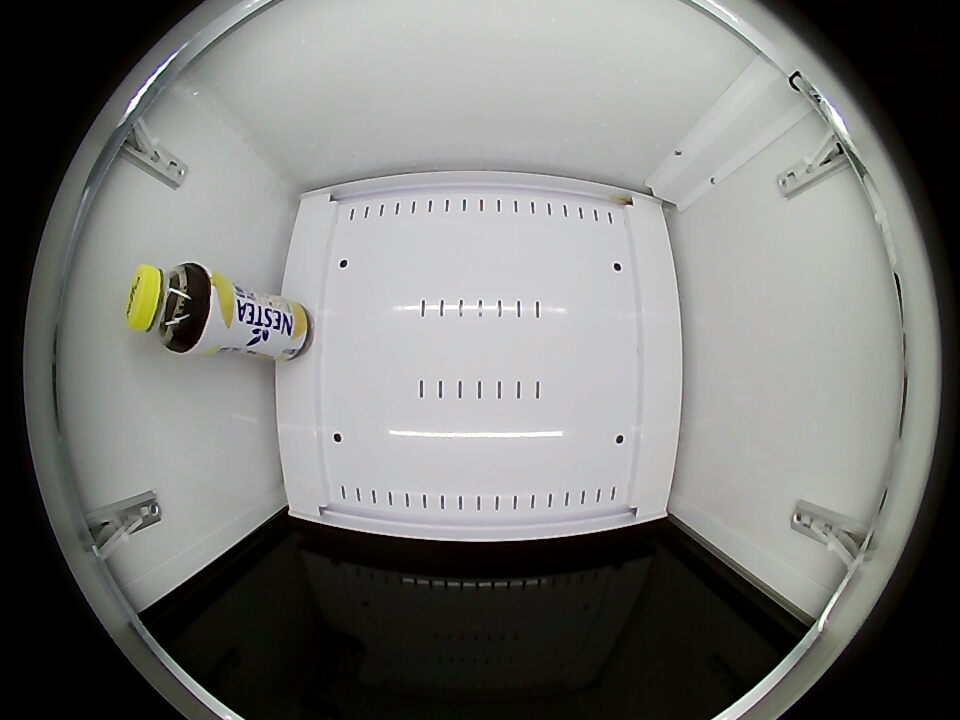chacui: (126, 262, 212, 353)
